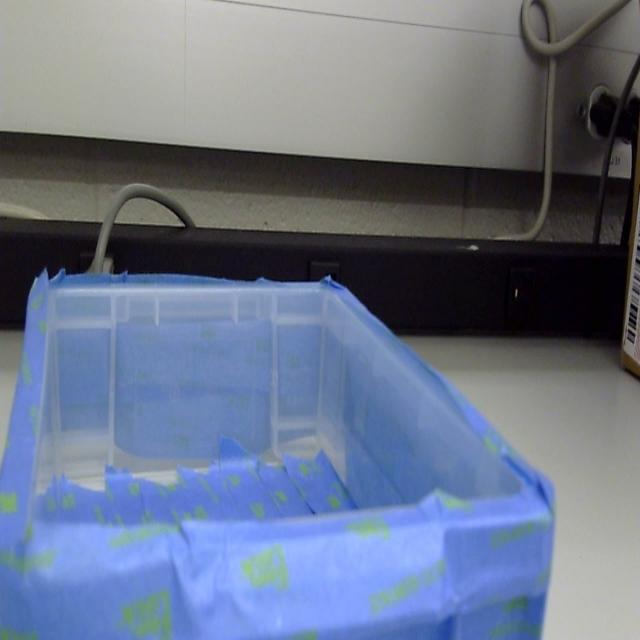bucket: (0, 273, 558, 640)
